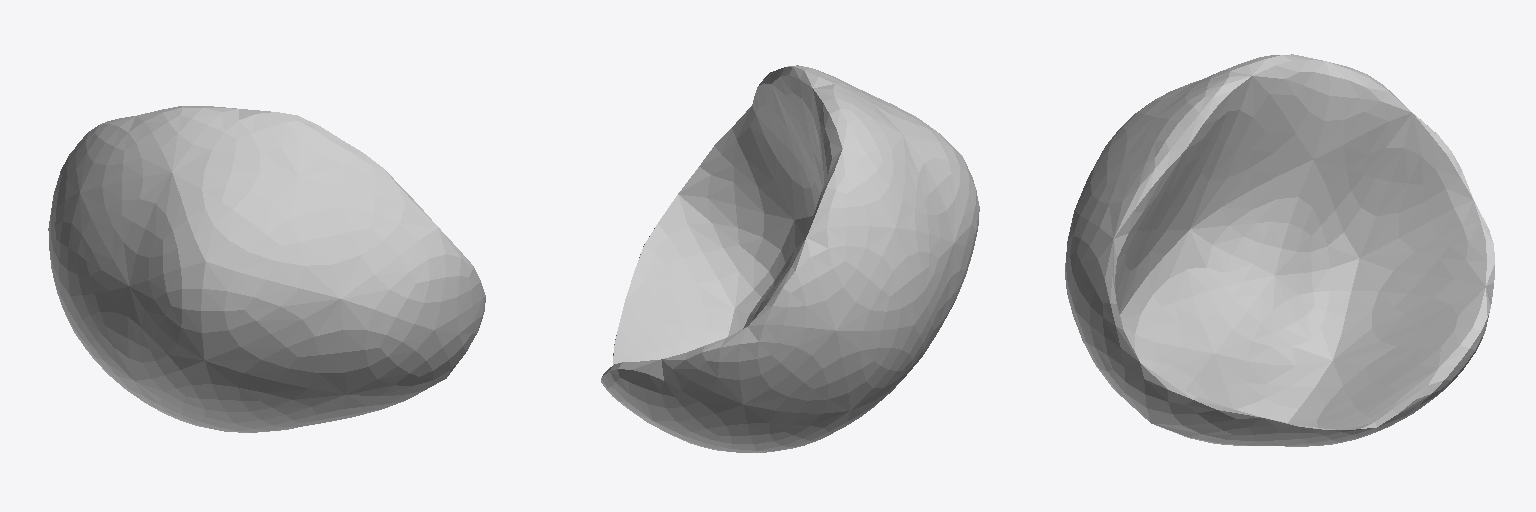
File: pedra3.obj
3 views of the same model, side by side, from view 1: azimuth 30°, elevation 25°; view 2: azimuth 150°, elevation 25°; view 3: azimuth 270°, elevation 25° (orthographic).
Visible parts, largest first — view 1: Icosphere; view 2: Icosphere; view 3: Icosphere.
Part boxes in pixels (bbox=[...]): Icosphere: bbox=[48, 106, 485, 432]; Icosphere: bbox=[601, 65, 979, 452]; Icosphere: bbox=[1065, 54, 1494, 446].
Size of the model in its own units: 1.82 by 1.75 by 2.03.